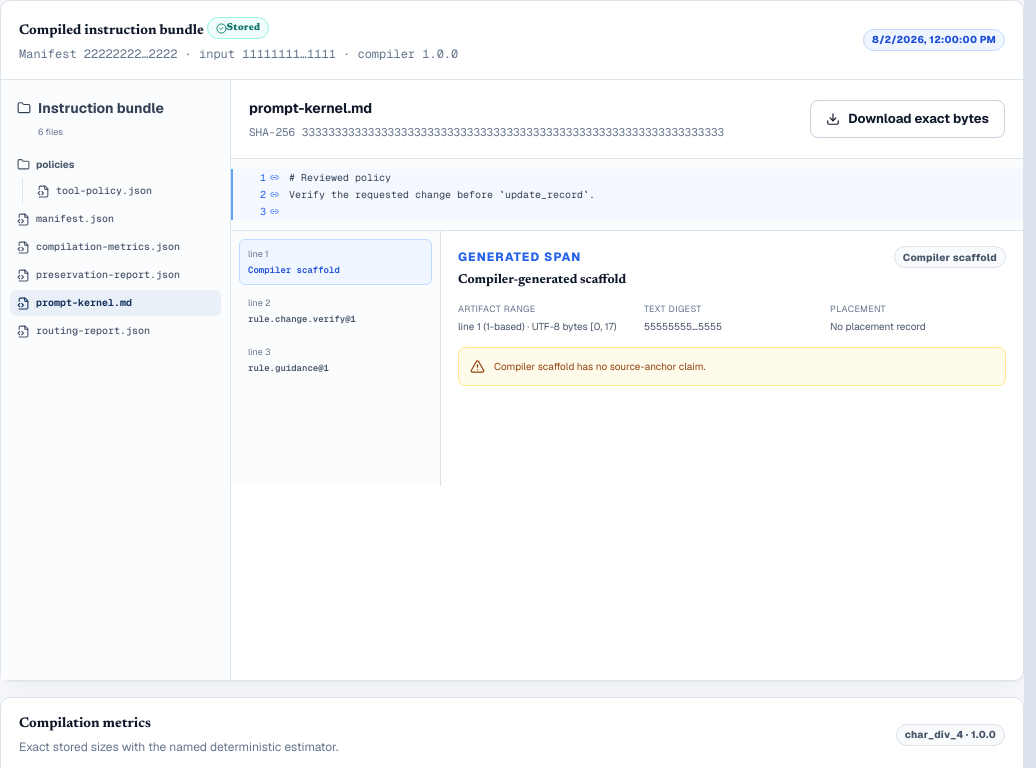
Test: build inspection › clicks from an exact generated range through its pinned source anchor
Click the button named "Inspect 1 source mapping for line 2".
click(260, 194)  # box [231, 186, 289, 203]
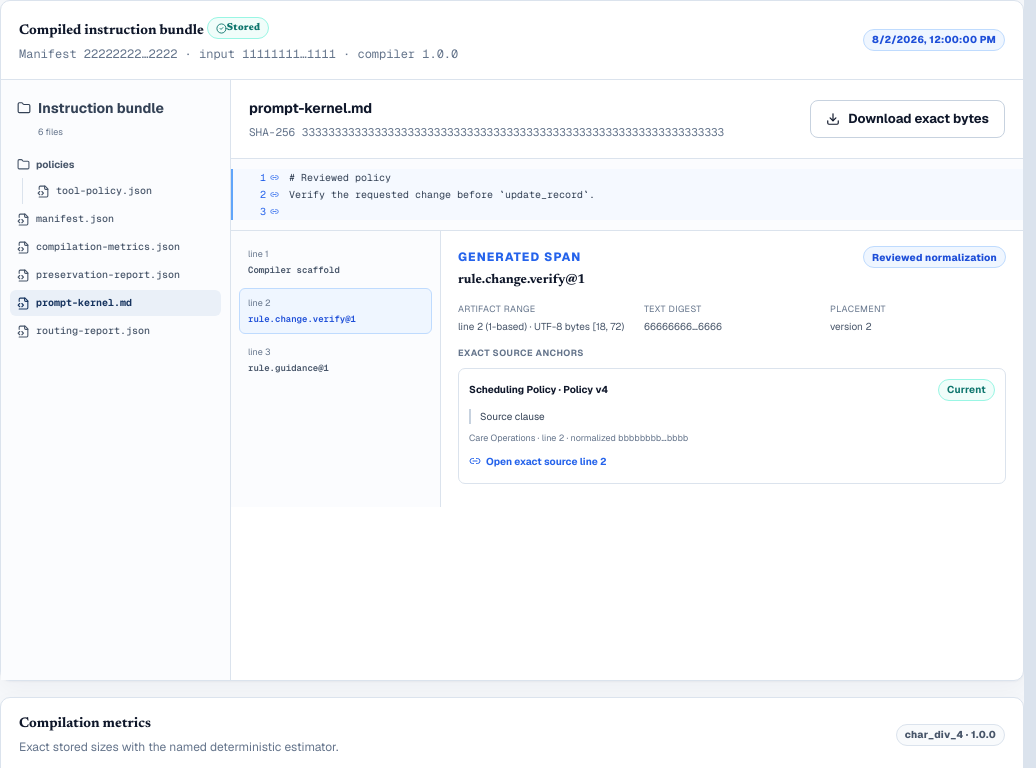
Check: the heading "rule.change.verify@1" is shown, box [458, 270, 585, 290]
Check: the text "Source clause" is shown, box [469, 408, 995, 424]
Click the button "line 3 rule.guidance@1".
click(336, 360)  # box [239, 337, 432, 383]
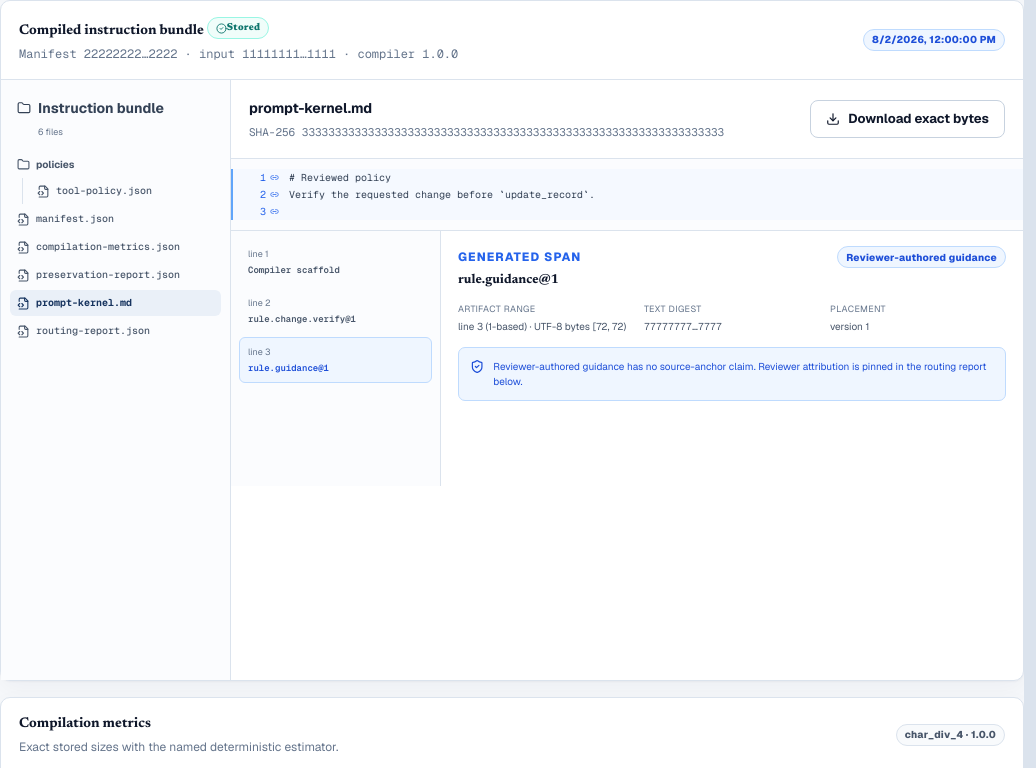
Check: the text "Reviewer-authored guidance has no source-anchor claim. Reviewer attribution is pinned in the routing report below." is shown, box [493, 360, 986, 388]
Click the button "routing-report.json".
click(116, 331)  # box [10, 318, 221, 344]
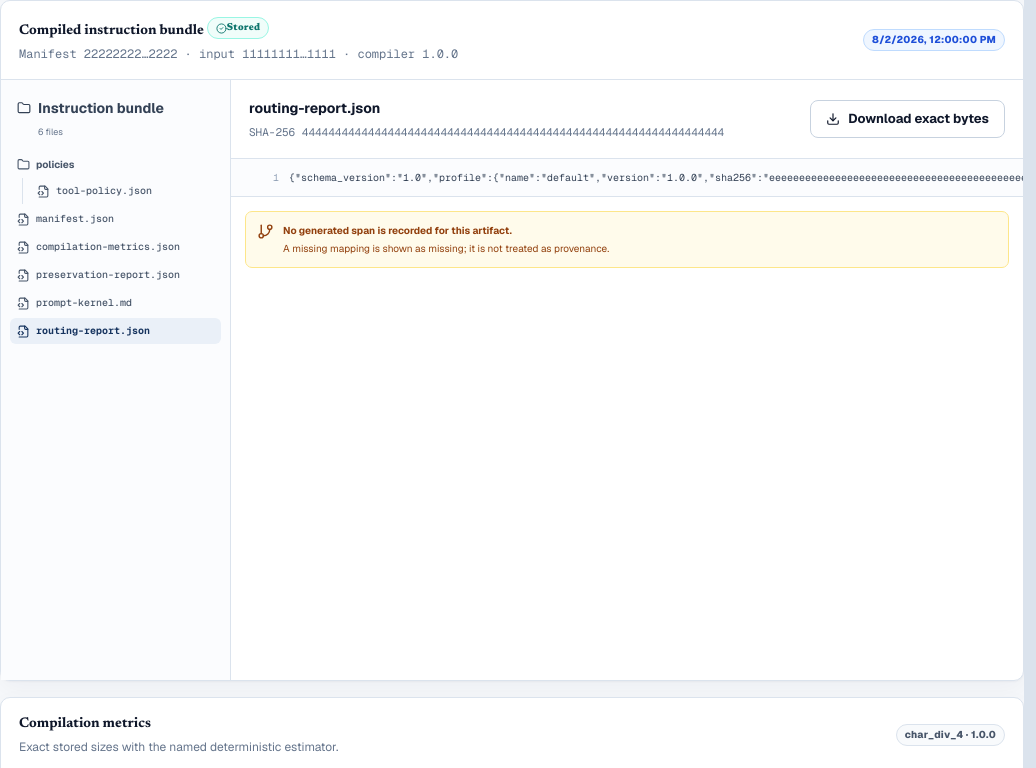
Check: the text "No generated span is recorded for this artifact." is shown, box [283, 224, 512, 237]
